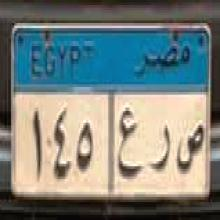1: (31, 102, 45, 182)
4: (52, 107, 71, 185)
5: (74, 121, 96, 176)
ain: (117, 104, 143, 188)
raa: (147, 120, 171, 182)
saad: (174, 111, 205, 180)
